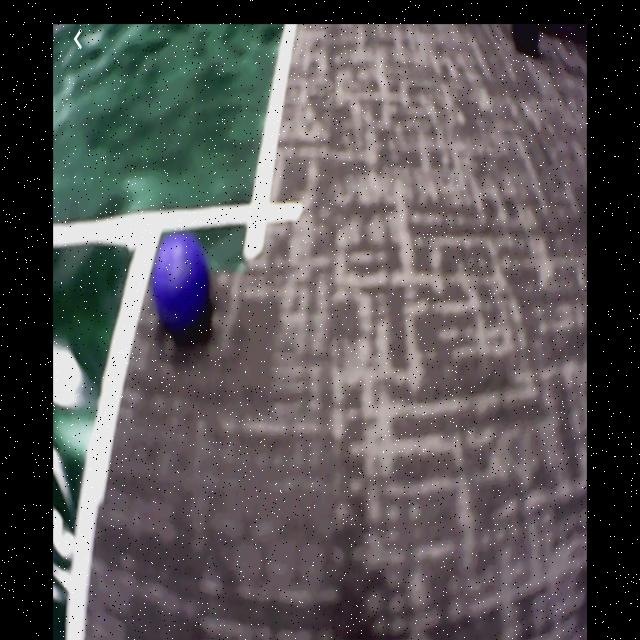ball: (155, 239, 215, 340)
